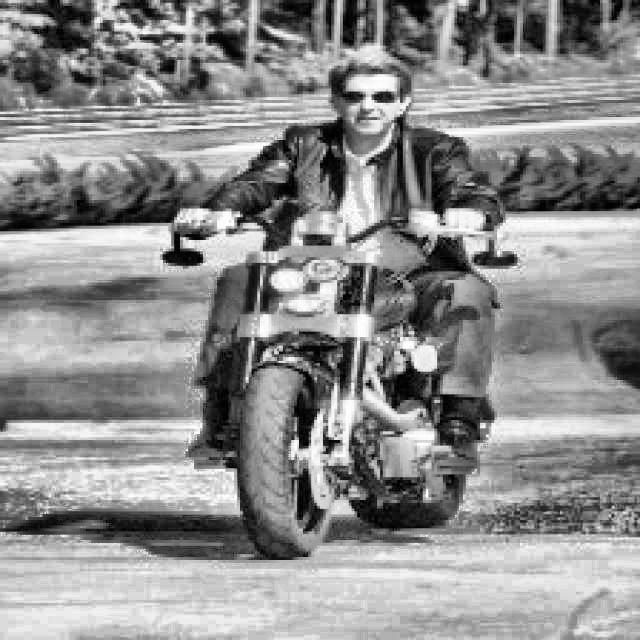motorcycle: (160, 203, 513, 558)
